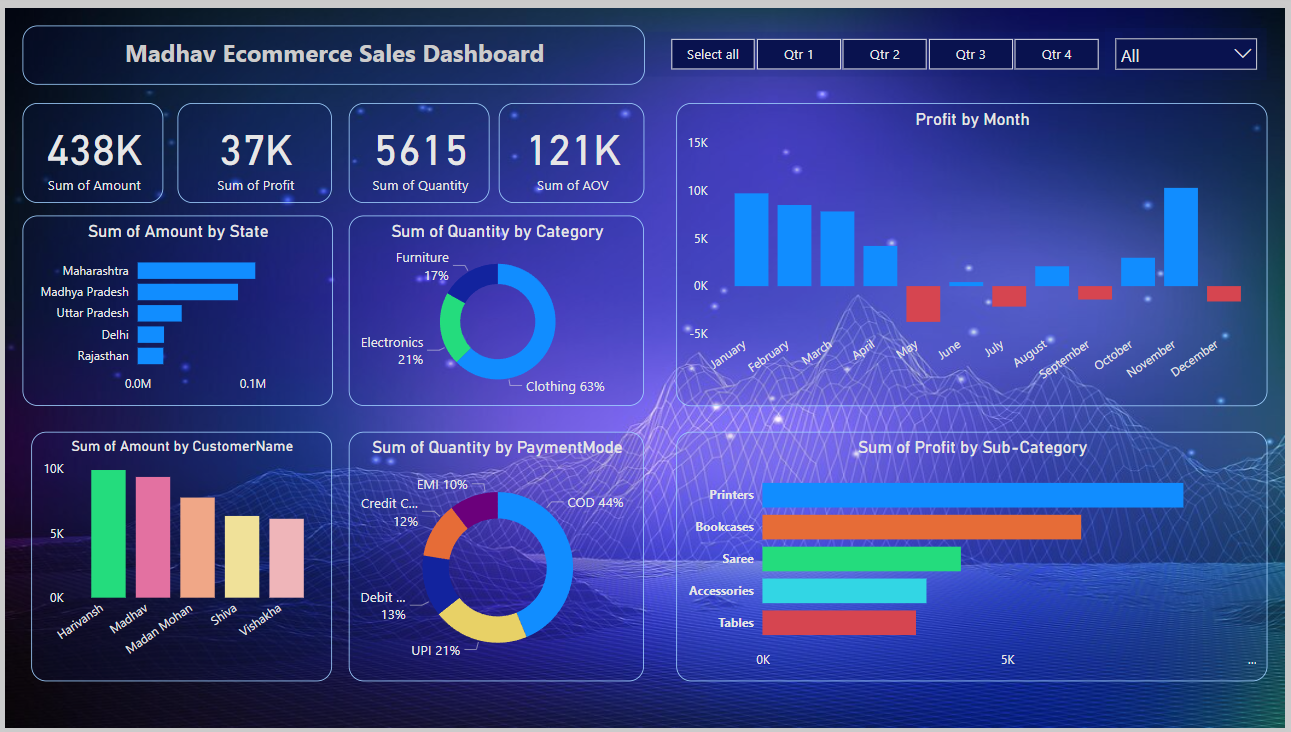

Layout of this report page (visuals, bound fields, positions):
{"tool":"powerbi","page":{"name":"Page 1","canvas":[1280,720],"ordinal":0},"visuals":[{"type":"textbox","box":[16.9,16.9,622.5,59.1],"z":0},{"type":"columnChart","title":"Profit by Month","fields":{"Category":["Orders.OrderDate.Variation.Date Hierarchy.Month"],"Y":["Details.Profit"]},"box":[670.8,95.3,591.2,302.8],"z":1000},{"type":"barChart","fields":{"Category":["Details.Sub-Category"],"Y":["Details.Profit"]},"box":[670.8,423.5,591.2,249.7],"z":2000},{"type":"donutChart","fields":{"Category":["Details.Category"],"Y":["Details.Quantity"]},"box":[343.8,207.5,295.6,190.6],"z":3000},{"type":"donutChart","fields":{"Y":["Details.Quantity"],"Category":["Details.PaymentMode"]},"box":[343.8,423.5,295.6,249.7],"z":4000},{"type":"card","fields":{"Values":["Details.Amount"]},"box":[16.9,95.3,141.2,100.1],"z":5000},{"type":"card","fields":{"Values":["Details.Profit"]},"box":[172.5,95.3,154.4,100.1],"z":6000},{"type":"card","fields":{"Values":["Details.Quantity"]},"box":[343.8,95.3,141.2,100.1],"z":7000},{"type":"card","fields":{"Values":["Details.AOV"]},"box":[493.4,95.3,146,100.1],"z":8000},{"type":"barChart","fields":{"Category":["Orders.State"],"Y":["Details.Amount"]},"box":[16.9,207.5,310.1,190.6],"z":9000},{"type":"columnChart","fields":{"Category":["Orders.CustomerName"],"Y":["Details.Amount"]},"box":[26.5,423.5,300.4,249.7],"z":10000},{"type":"slicer","fields":{"Values":["Orders.OrderDate.Variation.Date Hierarchy.Quarter"]},"box":[639.4,24.1,477.8,44.6],"z":11000},{"type":"slicer","fields":{"Values":["Orders.State"]},"box":[1100.3,20.5,161.7,51.9],"z":12000}]}

Visuals, with their boxes in screenshot pixels (x1, y1, x2, y2), scaled from the page's 1280x720 canvas onto the 1291x732 screenshot:
textbox: BBox(17, 17, 645, 77)
"Profit by Month" columnChart: BBox(677, 97, 1273, 405)
barChart - Details.Sub-Category x Details.Profit: BBox(677, 431, 1273, 684)
donutChart - Details.Category x Details.Quantity: BBox(347, 211, 645, 405)
donutChart - Details.Quantity x Details.PaymentMode: BBox(347, 431, 645, 684)
card - Details.Amount: BBox(17, 97, 159, 199)
card - Details.Profit: BBox(174, 97, 330, 199)
card - Details.Quantity: BBox(347, 97, 489, 199)
card - Details.AOV: BBox(498, 97, 645, 199)
barChart - Orders.State x Details.Amount: BBox(17, 211, 330, 405)
columnChart - Orders.CustomerName x Details.Amount: BBox(27, 431, 330, 684)
slicer - Orders.OrderDate.Variation.Date Hierarchy.Quarter: BBox(645, 25, 1127, 70)
slicer - Orders.State: BBox(1110, 21, 1273, 74)
